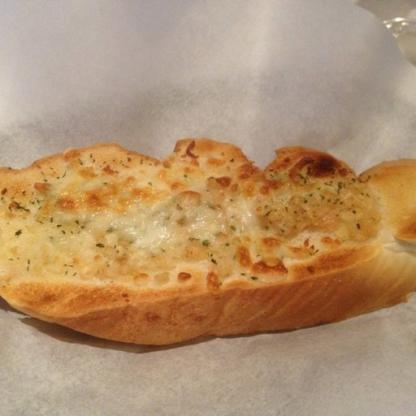toast bread: (2, 141, 415, 348)
